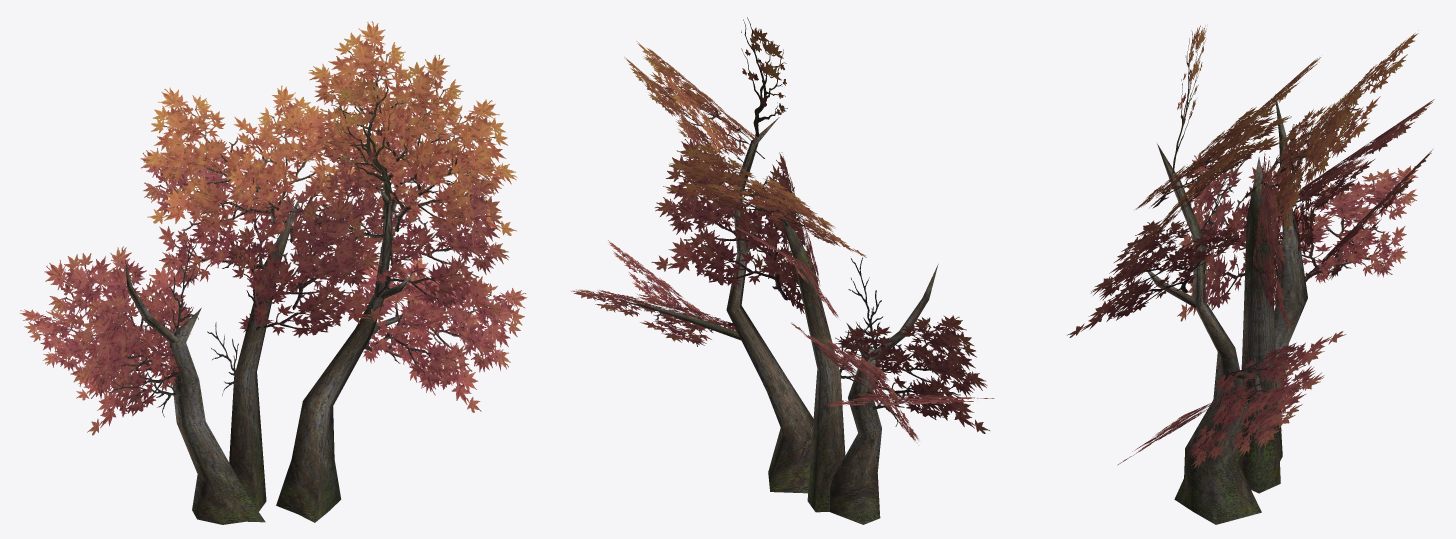
File: yw_shibalipo_dashu01.FBX
3 renders of one model, left to right at view 1: azimuth 30°, elevation 25°; view 2: azimuth 150°, elevation 25°; view 3: azimuth 270°, elevation 25°, orthographic. The views are drawn at different scales.
Visible parts, largest first — view 1: yw_shibalipo_dashu01; view 2: yw_shibalipo_dashu01; view 3: yw_shibalipo_dashu01.
Boxes of the visible parts, left/top/right/bottom form: yw_shibalipo_dashu01: left=19, top=21, right=527, bottom=524; yw_shibalipo_dashu01: left=571, top=17, right=994, bottom=524; yw_shibalipo_dashu01: left=1067, top=25, right=1434, bottom=524.
Bounding box in the file's own units: 542 × 518 × 356.
